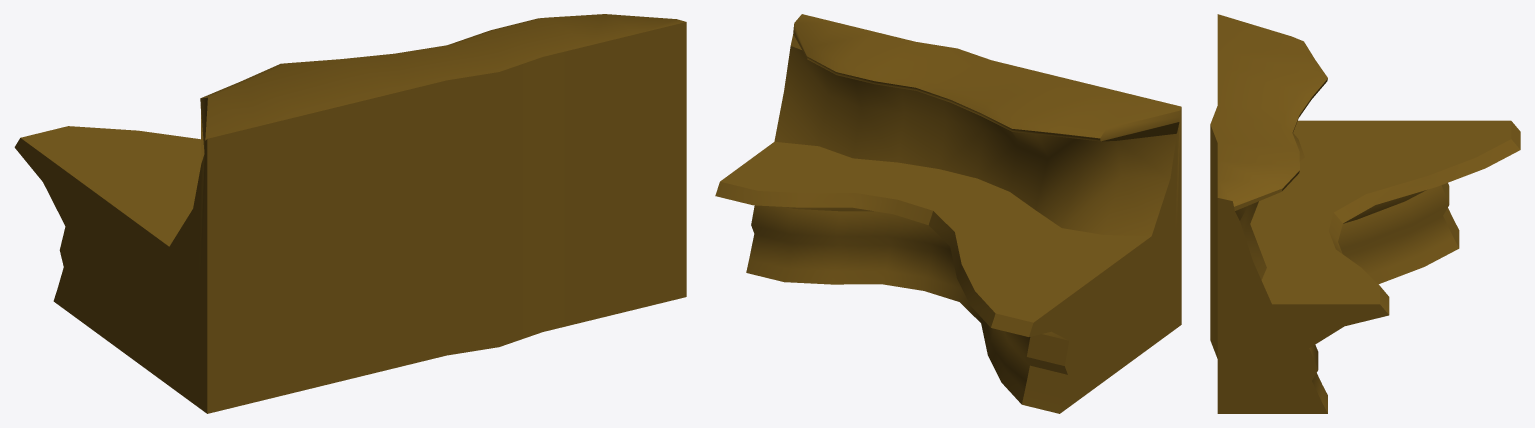
Rendered from Cliff_1.FBX.
The picture shows the model from 3 angles, left to right: view 1: azimuth 30°, elevation 25°; view 2: azimuth 150°, elevation 25°; view 3: azimuth 270°, elevation 25°; orthographic projection. The views are drawn at different scales.
Parts seen in each view (by area): view 1: Cliff 1; view 2: Cliff 1; view 3: Cliff 1.
Boxes of the visible parts, x1,y1,x2,y2 form: Cliff 1: (14, 14, 686, 413); Cliff 1: (715, 14, 1181, 413); Cliff 1: (1210, 14, 1520, 413).
Size of the model in its own units: 244 by 134 by 174.
